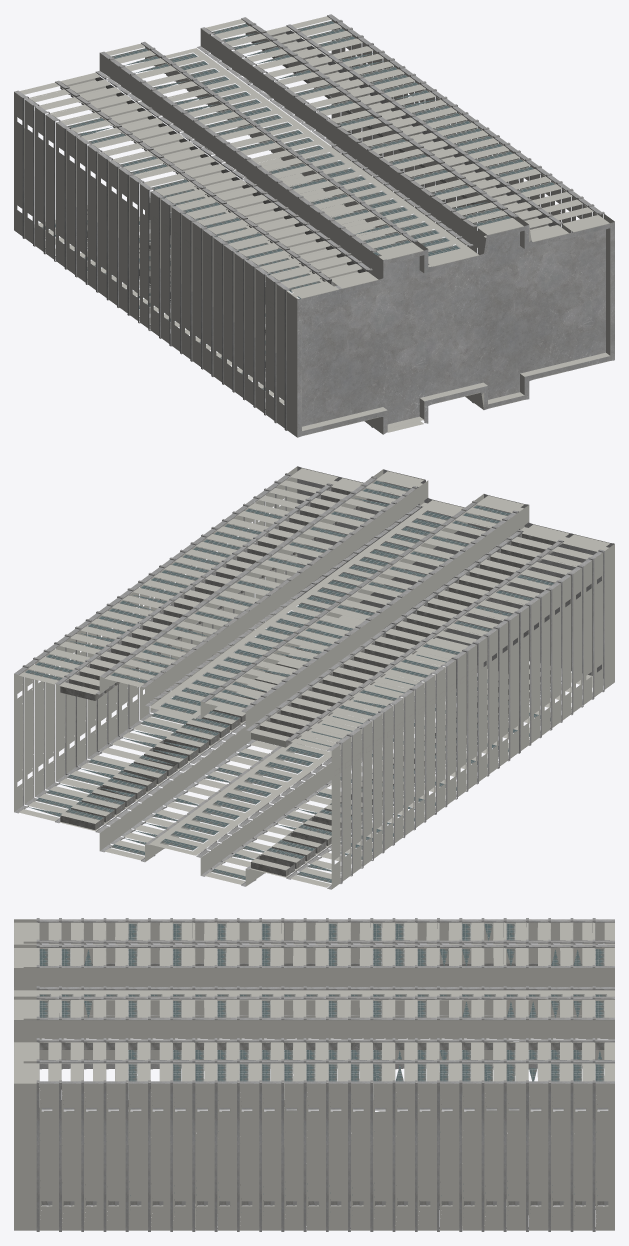
3 renders of one model, top to bottom at view 1: azimuth 30°, elevation 25°; view 2: azimuth 150°, elevation 25°; view 3: azimuth 270°, elevation 25°, orthographic. The views are drawn at different scales.
Parts seen in each view (by area): view 1: Res_1; view 2: Res_1; view 3: Res_1.
Part boxes in pixels (x1=…): Res_1: x1=14, y1=14, x2=614, y2=437; Res_1: x1=14, y1=466, x2=614, y2=889; Res_1: x1=14, y1=918, x2=614, y2=1231.
Bounding box in the file's own units: 34.59 × 18.33 × 53.3.
Materials: 3 (3 with a texture image).
